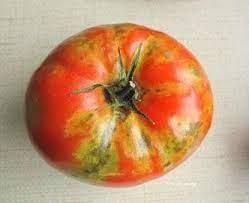tomato late blight: (25, 24, 216, 190)
